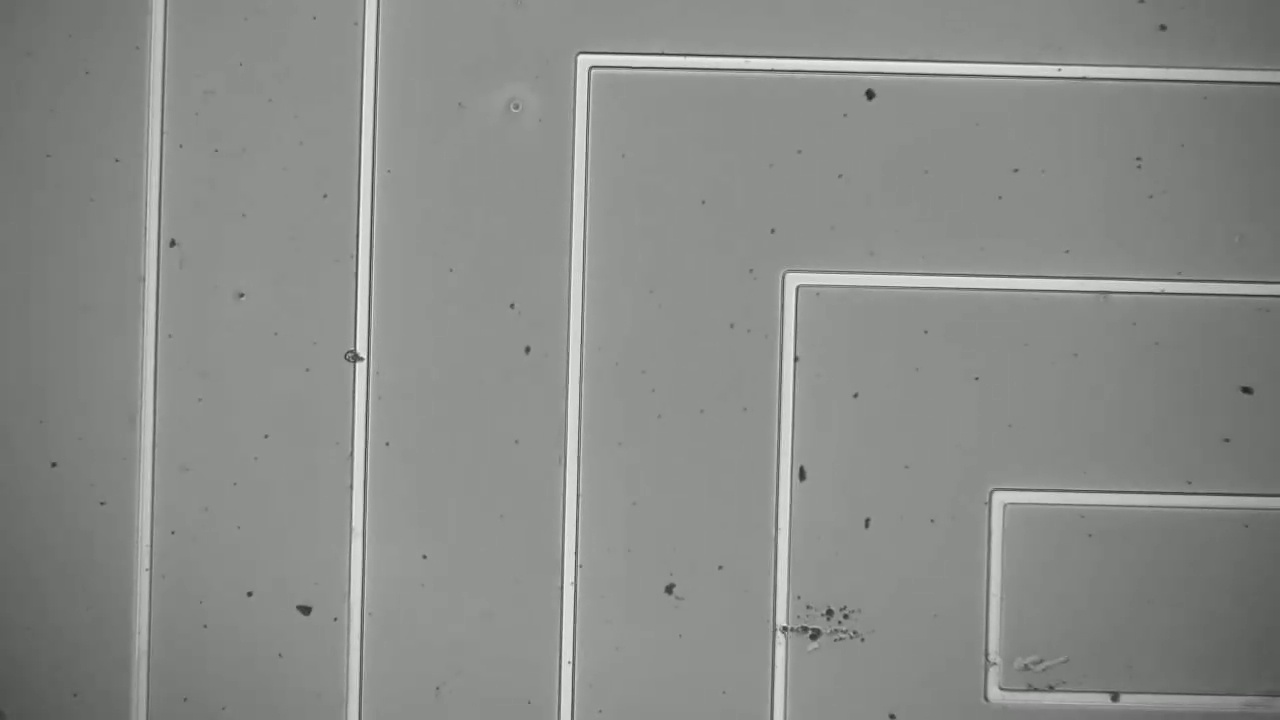stains_enbedded: (1097, 682, 1133, 718), (339, 348, 379, 373)
